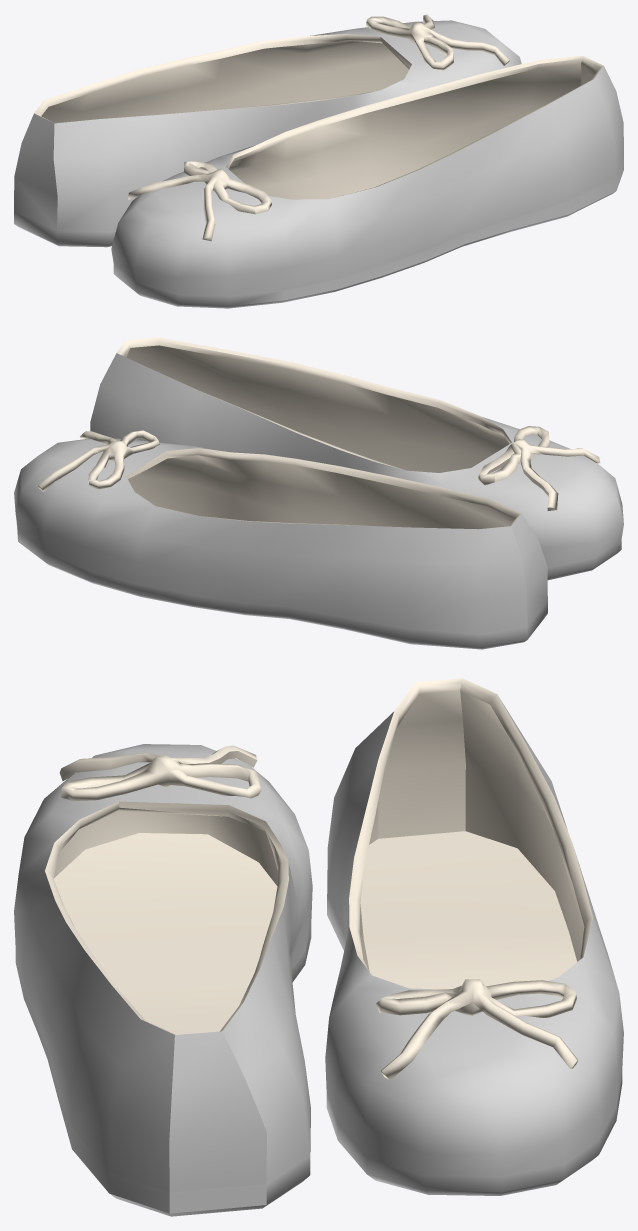
The model's file is Balletshoe.obj.
3 views of the same model, one above another, from view 1: azimuth 30°, elevation 25°; view 2: azimuth 150°, elevation 25°; view 3: azimuth 270°, elevation 25° (orthographic). The views are drawn at different scales.
Parts seen in each view (by area): view 1: Mesh1 woman_sho0_1 skpCFE1 Ballet_flats1 Model, Mesh3 woman_shoe1 skpCFE1 Ballet_flats1 Model, Mesh2 woman_sho0_1 skpCFE1 Ballet_flats1 Model, Mesh4 woman_shoe1 skpCFE1 Ballet_flats1 Model; view 2: Mesh3 woman_shoe1 skpCFE1 Ballet_flats1 Model, Mesh1 woman_sho0_1 skpCFE1 Ballet_flats1 Model, Mesh2 woman_sho0_1 skpCFE1 Ballet_flats1 Model, Mesh4 woman_shoe1 skpCFE1 Ballet_flats1 Model; view 3: Mesh3 woman_shoe1 skpCFE1 Ballet_flats1 Model, Mesh1 woman_sho0_1 skpCFE1 Ballet_flats1 Model, Mesh4 woman_shoe1 skpCFE1 Ballet_flats1 Model, Mesh2 woman_sho0_1 skpCFE1 Ballet_flats1 Model.
Boxes of the visible parts, left/top/right/bottom form: Mesh1 woman_sho0_1 skpCFE1 Ballet_flats1 Model: left=111, top=55, right=623, bottom=308; Mesh3 woman_shoe1 skpCFE1 Ballet_flats1 Model: left=14, top=20, right=521, bottom=247; Mesh2 woman_sho0_1 skpCFE1 Ballet_flats1 Model: left=128, top=161, right=271, bottom=241; Mesh4 woman_shoe1 skpCFE1 Ballet_flats1 Model: left=366, top=14, right=509, bottom=70; Mesh3 woman_shoe1 skpCFE1 Ballet_flats1 Model: left=14, top=438, right=547, bottom=649; Mesh1 woman_sho0_1 skpCFE1 Ballet_flats1 Model: left=90, top=337, right=623, bottom=580; Mesh2 woman_sho0_1 skpCFE1 Ballet_flats1 Model: left=478, top=426, right=600, bottom=510; Mesh4 woman_shoe1 skpCFE1 Ballet_flats1 Model: left=37, top=430, right=159, bottom=491; Mesh3 woman_shoe1 skpCFE1 Ballet_flats1 Model: left=325, top=678, right=623, bottom=1195; Mesh1 woman_sho0_1 skpCFE1 Ballet_flats1 Model: left=14, top=744, right=312, bottom=1216; Mesh4 woman_shoe1 skpCFE1 Ballet_flats1 Model: left=376, top=979, right=578, bottom=1080; Mesh2 woman_sho0_1 skpCFE1 Ballet_flats1 Model: left=59, top=745, right=261, bottom=800.
Size of the model in its own units: 9.27 by 1.93 by 6.22.
